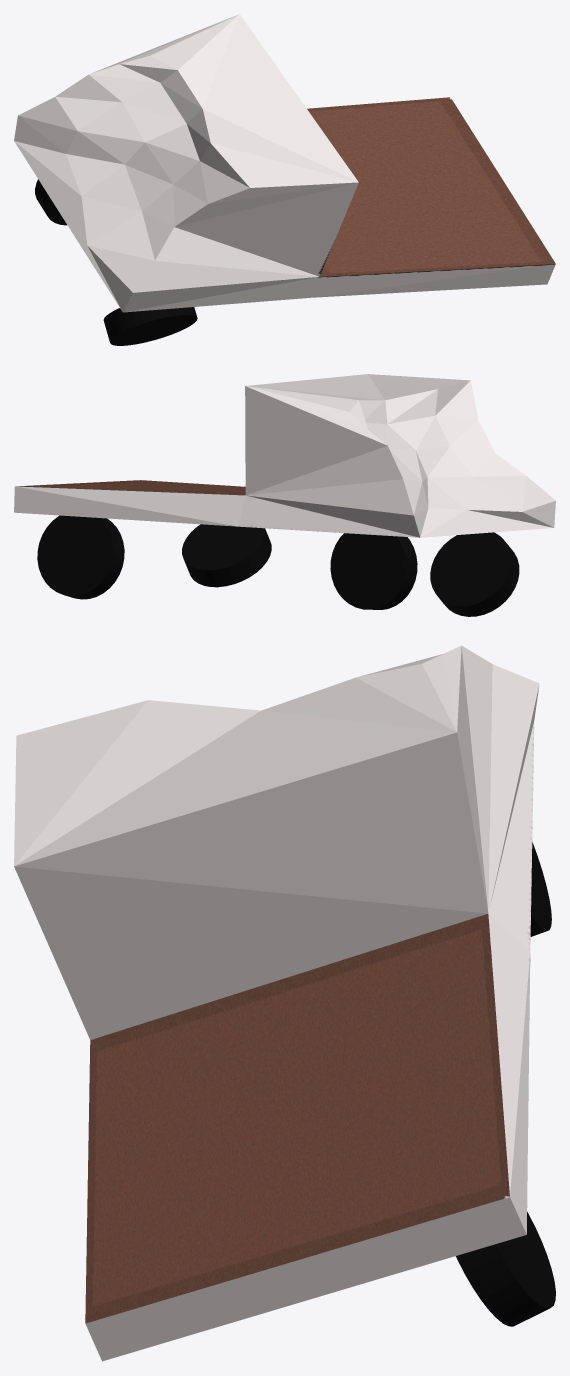
The model's file is ute_broken.dae.
The picture shows the model from 3 angles, top to bottom: view 1: azimuth 30°, elevation 25°; view 2: azimuth 150°, elevation 25°; view 3: azimuth 270°, elevation 25°; orthographic projection. The views are drawn at different scales.
Visible parts, largest first — view 1: Cylinder.003; view 2: Cylinder.003; view 3: Cylinder.003.
Part boxes in pixels (bbox=[...]): Cylinder.003: bbox=[14, 14, 555, 345]; Cylinder.003: bbox=[14, 374, 555, 616]; Cylinder.003: bbox=[14, 645, 555, 1361].
Size of the model in its own units: 4.09 by 2.4 by 2.18.
Materials: 1 (1 with a texture image).
